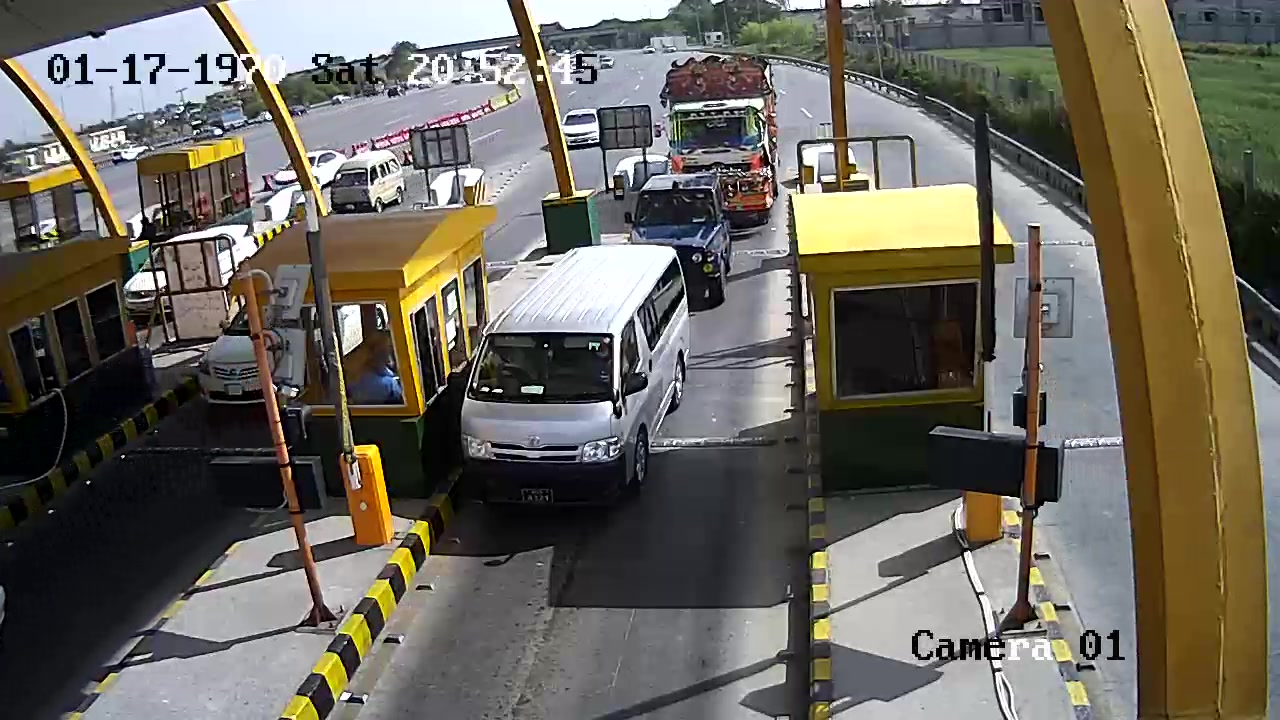F2: (454, 238, 694, 507)
